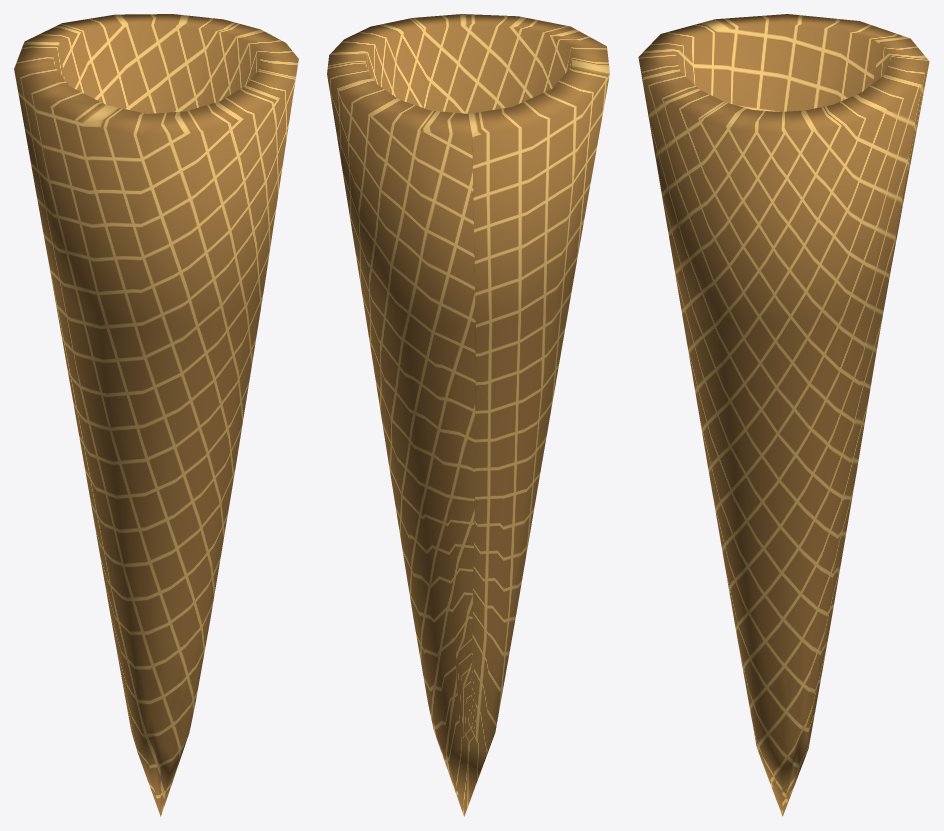
The model's file is Cono.fbx.
3 renders of one model, left to right at view 1: azimuth 30°, elevation 25°; view 2: azimuth 150°, elevation 25°; view 3: azimuth 270°, elevation 25°, orthographic.
Parts seen in each view (by area): view 1: Conos.001; view 2: Conos.001; view 3: Conos.001.
Part boxes in pixels (x1,y1,x2,y2): Conos.001: (14,14,298,816); Conos.001: (327,14,609,816); Conos.001: (638,14,929,816).
Bounding box in the file's own units: 5.31 × 15.55 × 5.47.
Materials: 1 (1 with a texture image).
